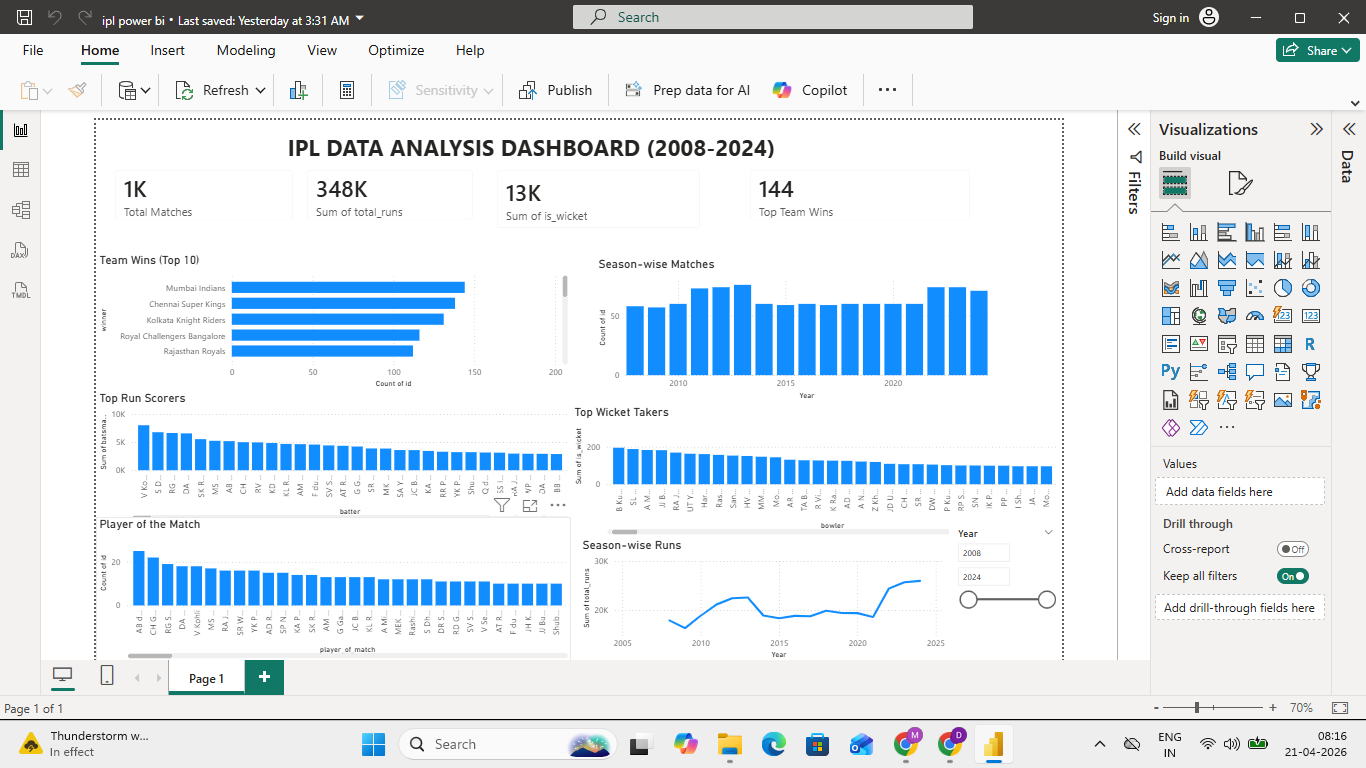

The page's visual inventory and layout, read from the dashboard file:
{"tool":"powerbi","page":{"name":"Page 1","canvas":[1380,775],"ordinal":0},"visuals":[{"type":"barChart","title":"Team Wins (Top 10)","fields":{"Category":["matches.winner"],"Y":["CountNonNull(matches.id)"]},"box":[0,190.2,679.2,197.3],"z":0},{"type":"clusteredColumnChart","title":"Season-wise Matches","fields":{"Category":["matches.Year"],"Y":["CountNonNull(matches.id)"]},"box":[712.7,196.1,567.8,207.8],"z":1000},{"type":"clusteredColumnChart","title":"Top Run Scorers","fields":{"Category":["deliveries.batter"],"Y":["Sum(deliveries.batsman_runs)"]},"box":[0,387.5,679.2,190.2],"z":2000},{"type":"clusteredColumnChart","title":"Top Wicket Takers","fields":{"Category":["deliveries.bowler"],"Y":["Sum(deliveries.is_wicket)"]},"box":[679.2,407.5,700.6,190.2],"z":3000},{"type":"clusteredColumnChart","title":"Player of the Match","fields":{"Category":["matches.player_of_match"],"Y":["CountNonNull(matches.id)"]},"box":[0,567.7,679.2,207.3],"z":4000},{"type":"lineChart","title":"Season-wise Runs","fields":{"Category":["matches.Year"],"Y":["Sum(deliveries.total_runs)"]},"box":[690.6,597.7,527.6,177.3],"z":5000},{"type":"slicer","fields":{"Values":["matches.Year"]},"box":[1218.3,577.7,161.6,197.3],"z":6000},{"type":"textbox","box":[0,0,1265.9,73.2],"z":7000},{"type":"cardVisual","fields":{"Data":["matches.Total Matches"]},"box":[10.2,54.1,288.3,105.4],"z":8000},{"type":"cardVisual","fields":{"Data":["Sum(deliveries.total_runs)"]},"box":[284.5,54.3,271.7,105.8],"z":9000},{"type":"cardVisual","fields":{"Data":["Sum(deliveries.is_wicket)"]},"box":[556.2,54.3,324.6,117.3],"z":10000},{"type":"cardVisual","fields":{"Data":["matches.Top Team Wins"]},"box":[916.6,54.3,348.9,105.8],"z":11000}]}

Visuals, with their boxes on the page's 1380x775 design canvas (x1, y1, x2, y2). These are canvas units, not pixel positions in the 1366x768 screenshot, which may show the page scaled, cropped or inside an application window:
"Team Wins (Top 10)" barChart: 0:190:679:388
"Season-wise Matches" clusteredColumnChart: 713:196:1280:404
"Top Run Scorers" clusteredColumnChart: 0:388:679:578
"Top Wicket Takers" clusteredColumnChart: 679:408:1380:598
"Player of the Match" clusteredColumnChart: 0:568:679:775
"Season-wise Runs" lineChart: 691:598:1218:775
slicer - matches.Year: 1218:578:1380:775
textbox: 0:0:1266:73
cardVisual - matches.Total Matches: 10:54:298:160
cardVisual - Sum(deliveries.total_runs): 284:54:556:160
cardVisual - Sum(deliveries.is_wicket): 556:54:881:172
cardVisual - matches.Top Team Wins: 917:54:1266:160
